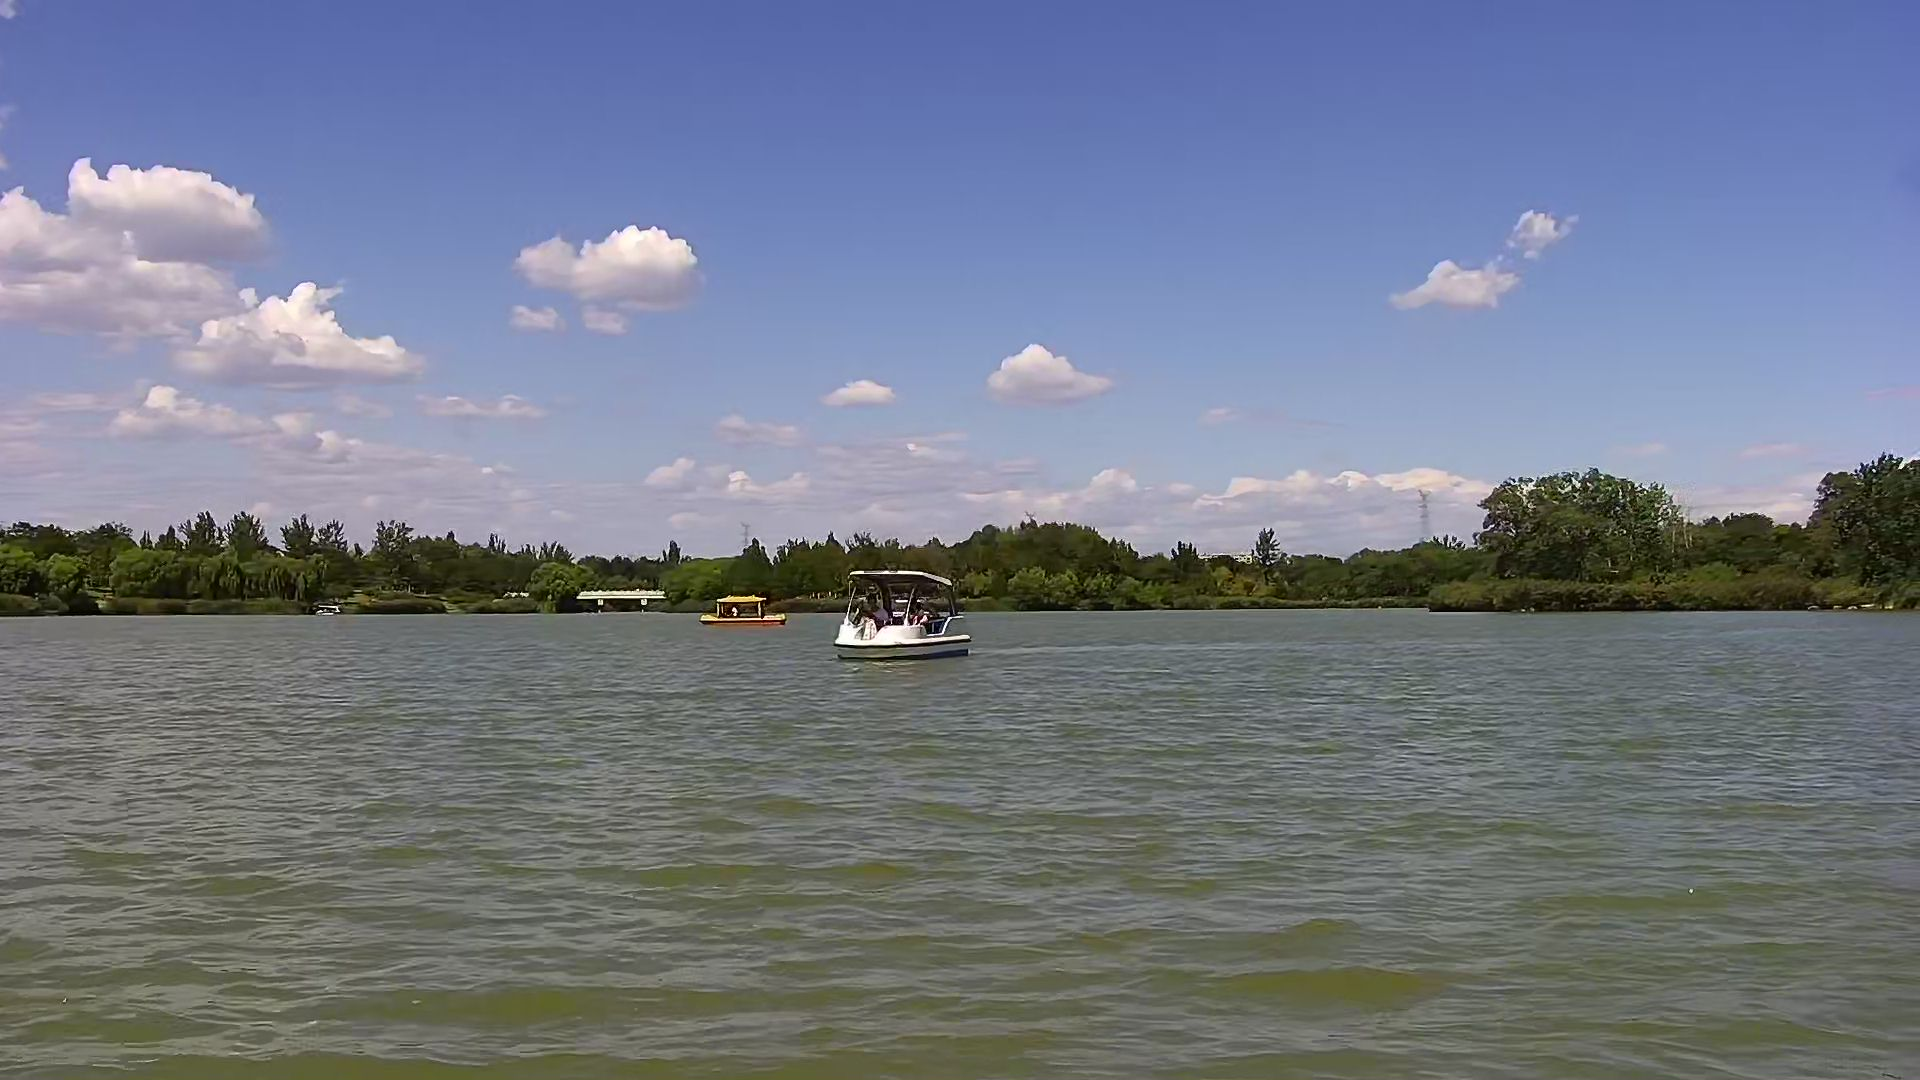boat: (825, 562, 976, 671), (699, 591, 789, 628)
bridge: (567, 575, 665, 615)
